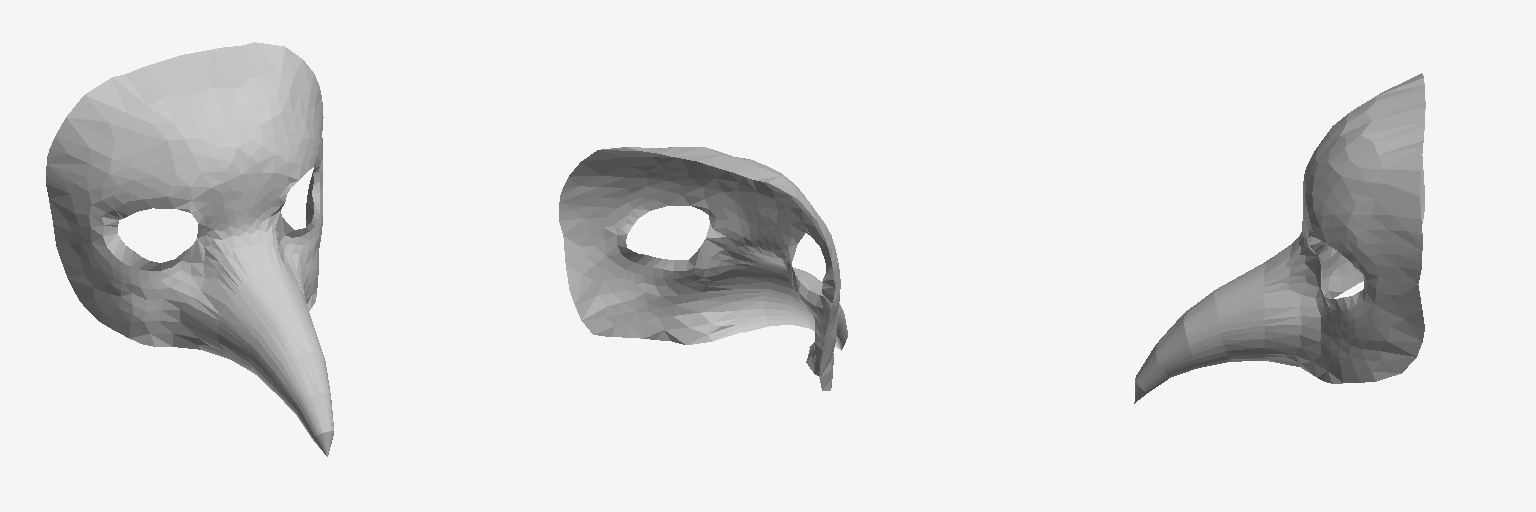
Rendered from plaguedoctormask.obj.
The picture shows the model from 3 angles: view 1: azimuth 30°, elevation 25°; view 2: azimuth 150°, elevation 25°; view 3: azimuth 270°, elevation 25°; orthographic projection.
Size of the model in its own units: 19.77 by 20.21 by 18.